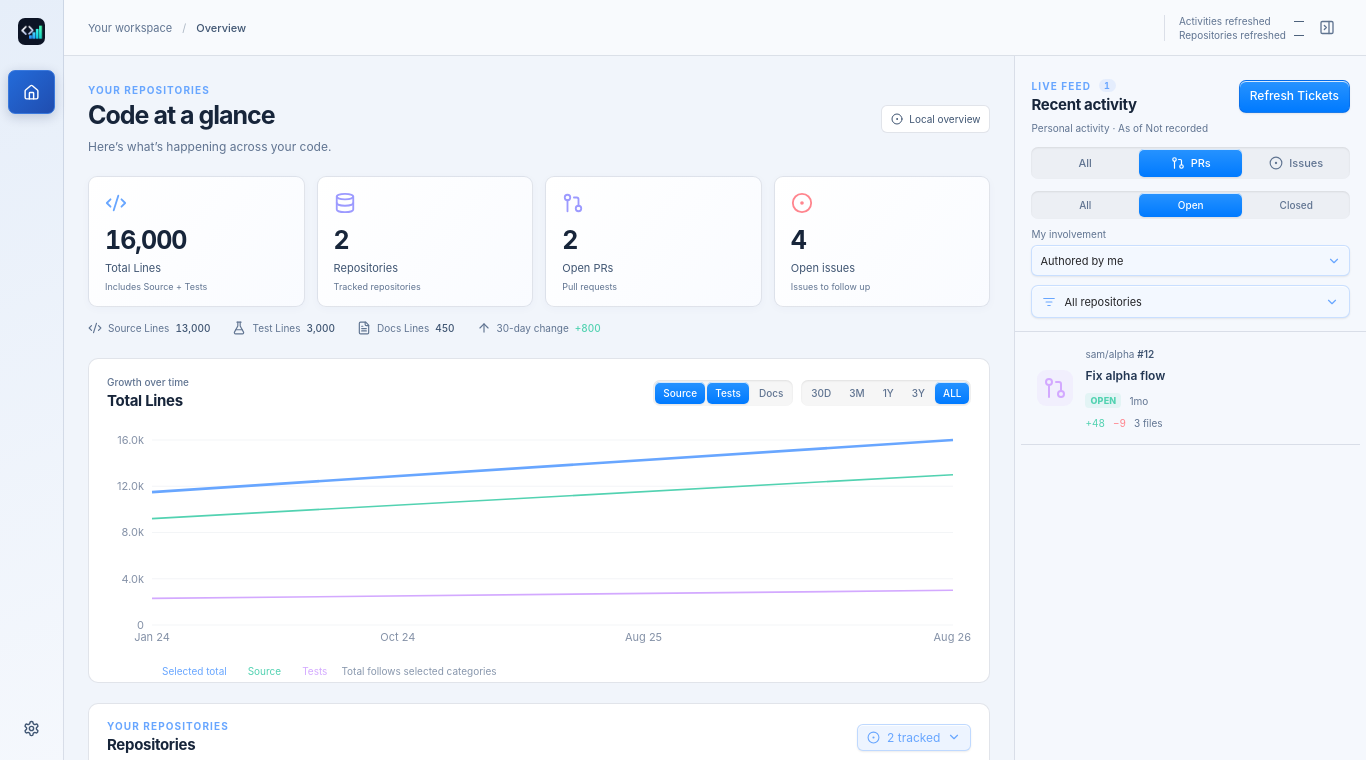
Test: dashboard UI › shows one broad refresh time and a separate spinner in the titlebar
The width and height of the screenshot is (1366, 760).
Expected: the heading "Code at a glance" is shown, x1=88 y1=100 x2=275 y2=130
Expected: the text "Repositories refreshed" is shown, x1=1179 y1=28 x2=1286 y2=40
Click the button named "Settings". click: [32, 728]
box: x1=8 y1=706 x2=55 y2=750
(page scrolled)
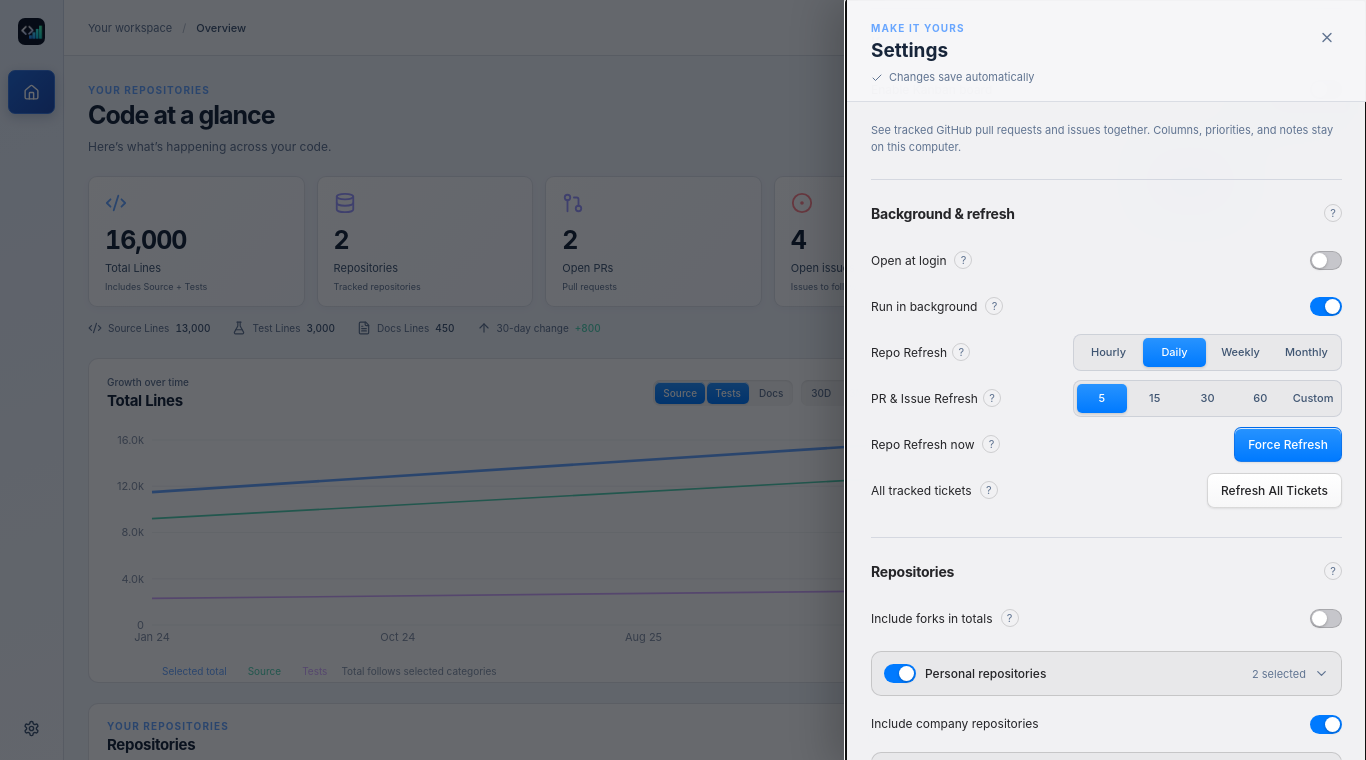
Result: the button "Force Refresh" is enabled
Click the button "Force Refresh". click: [1288, 444]
box: x1=1234 y1=427 x2=1342 y2=462
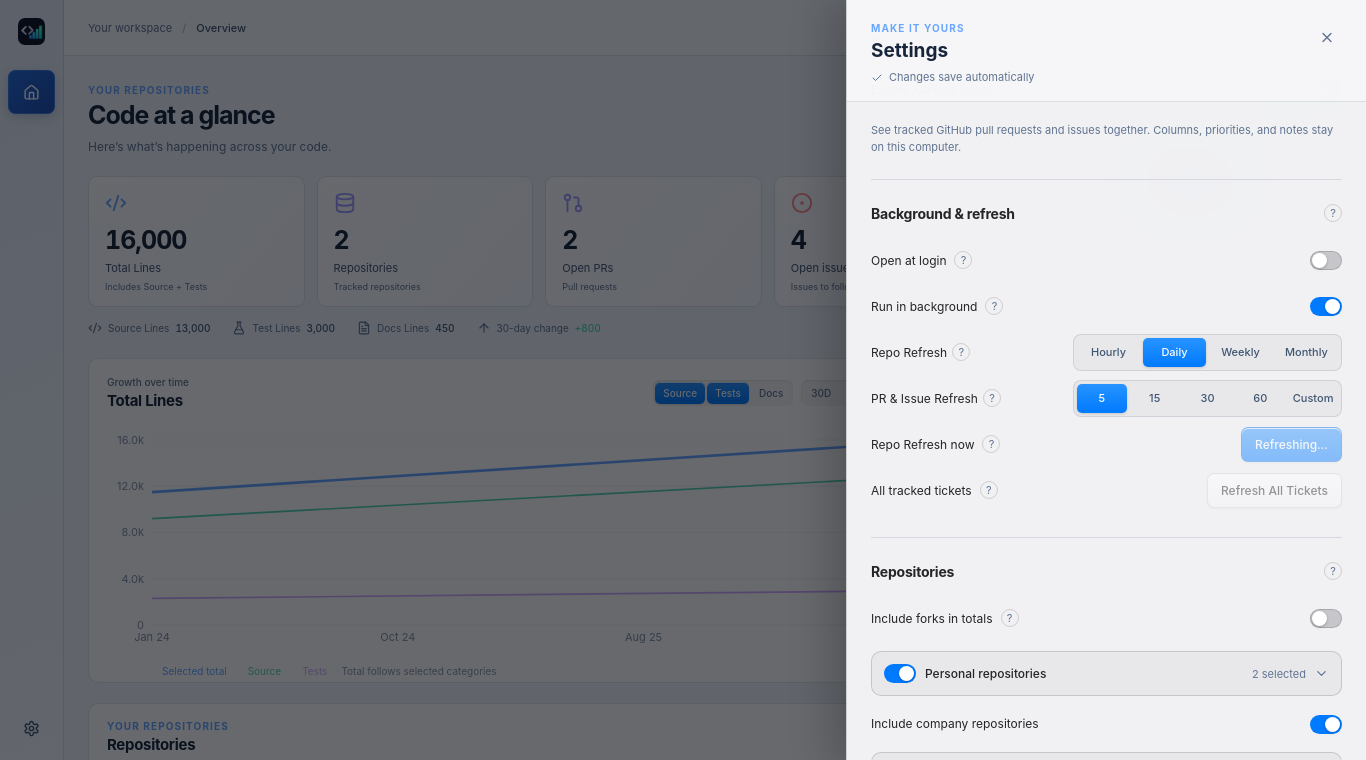
Result: the button "Refreshing…" is disabled at x1=1241 y1=427 x2=1342 y2=462
